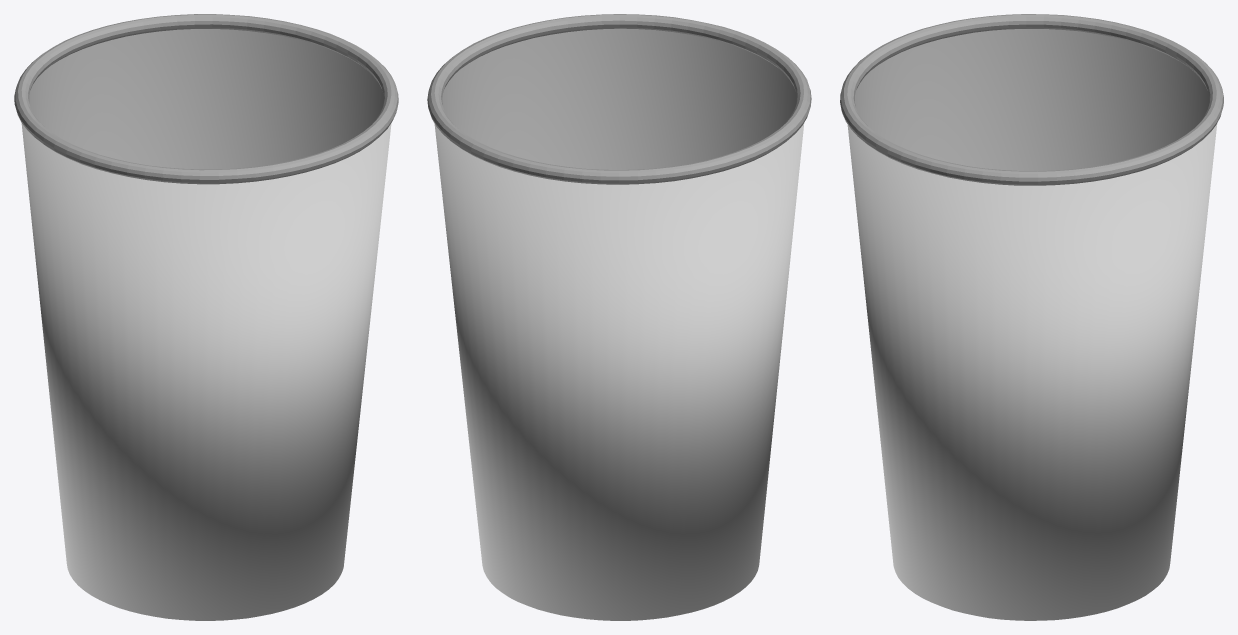
Rendered from cup.gltf.
3 views of the same model, side by side, from view 1: azimuth 30°, elevation 25°; view 2: azimuth 150°, elevation 25°; view 3: azimuth 270°, elevation 25° (orthographic).
Parts seen in each view (by area): view 1: outside, inside; view 2: outside, inside; view 3: outside, inside.
Boxes of the visible parts, bbox=[...] form: outside: bbox=[21, 123, 391, 620]; inside: bbox=[14, 14, 398, 184]; outside: bbox=[434, 123, 804, 620]; inside: bbox=[427, 14, 811, 184]; outside: bbox=[847, 123, 1217, 620]; inside: bbox=[840, 14, 1223, 185].
Bounding box in the file's own units: 2.14 × 2.9 × 2.14.
